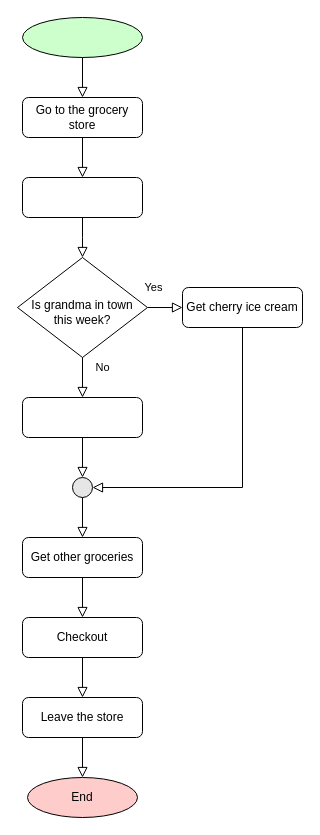
This 320x835 diagram has some shape labels left out. Here are the shapes that lost their labels. From the top down, the centre of each, then its label:
(82,37): Start
(82,197): Find the ice-cream section
(82,417): Get cookies and cream ice cream
